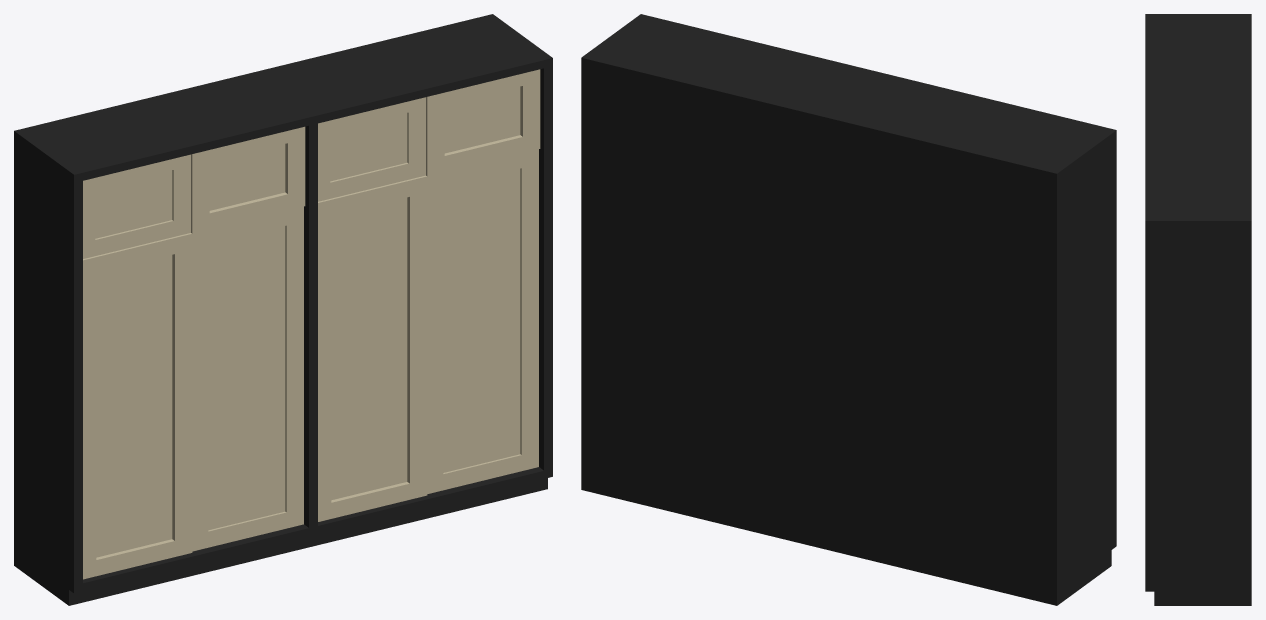
3 views of the same model, side by side, from view 1: azimuth 30°, elevation 25°; view 2: azimuth 150°, elevation 25°; view 3: azimuth 270°, elevation 25° (orthographic). The views are drawn at different scales.
Parts seen in each view (by area): view 1: Mesh3 Group3 Closet Model, Mesh2 Group2 Closet Model, Mesh1 Group1 Closet Model; view 2: Mesh1 Group1 Closet Model; view 3: Mesh1 Group1 Closet Model.
Boxes of the visible parts, left/top/right/bottom form: Mesh3 Group3 Closet Model: left=83, top=126, right=305, bottom=579; Mesh2 Group2 Closet Model: left=318, top=69, right=540, bottom=521; Mesh1 Group1 Closet Model: left=14, top=14, right=552, bottom=605; Mesh1 Group1 Closet Model: left=581, top=14, right=1116, bottom=605; Mesh1 Group1 Closet Model: left=1145, top=14, right=1251, bottom=605.
Bounding box in the file's own units: 109 × 94.3 × 23.62.
